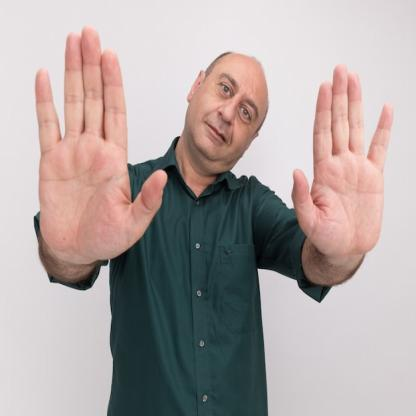stop: (32, 25, 170, 272), (289, 63, 396, 260)
